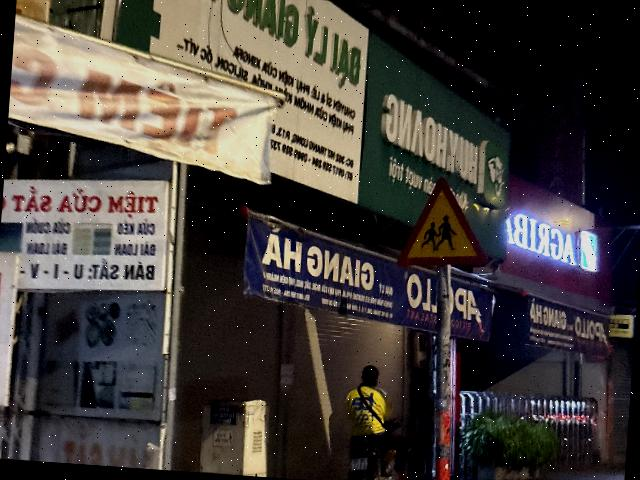tre-em-qua-duong: (395, 174, 491, 272)
